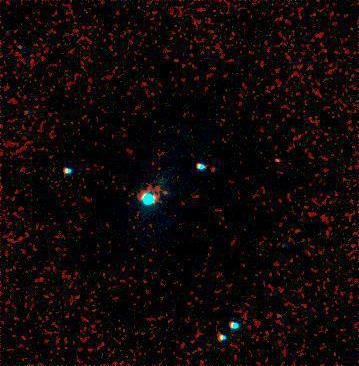star: (265, 146, 295, 176)
